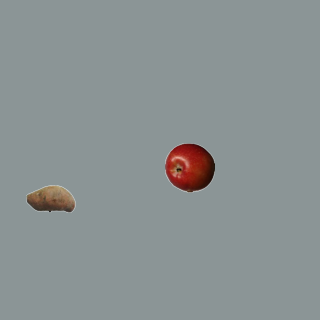Apple Braeburn: (164, 142, 214, 192)
Potato Sweet: (25, 173, 75, 223)
